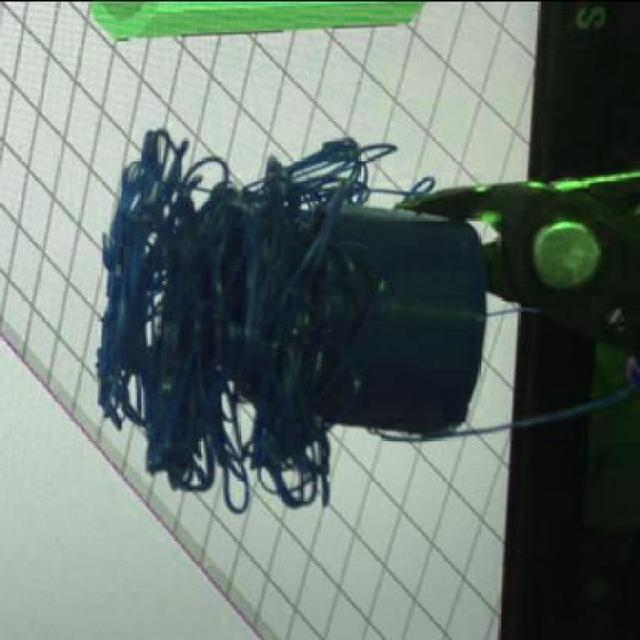spaghetti: (90, 120, 441, 520)
